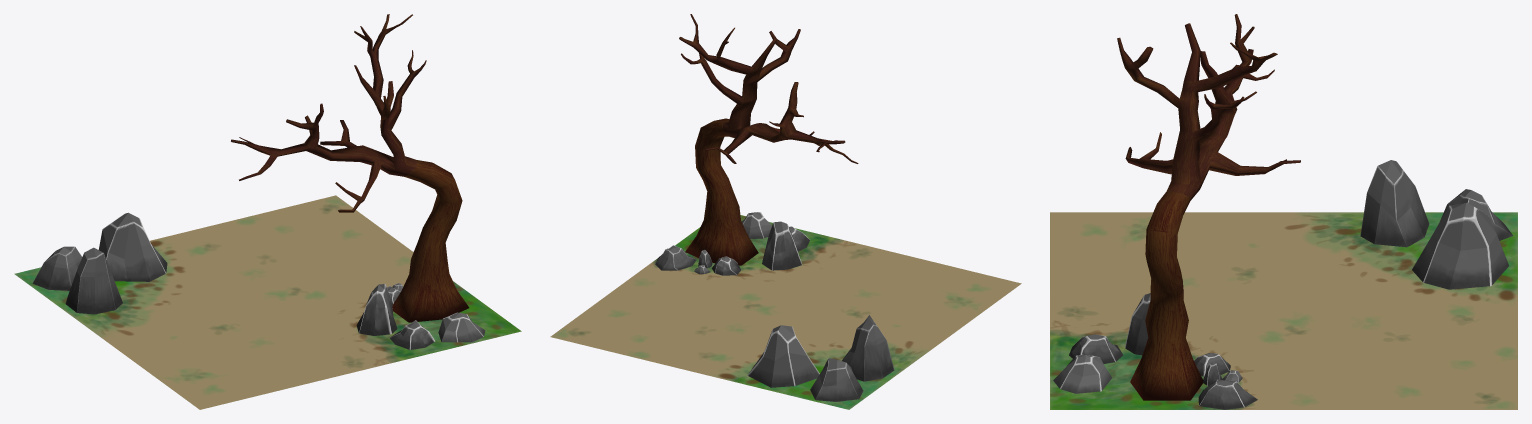
Rendered from level 1.fbx.
The picture shows the model from 3 angles, left to right: view 1: azimuth 30°, elevation 25°; view 2: azimuth 150°, elevation 25°; view 3: azimuth 270°, elevation 25°; orthographic projection. The views are drawn at different scales.
Visible parts, largest first — view 1: floor, tree, tree.001, rock.004, rock.003, rock.005, rock.006, rock.002, rock; view 2: floor, tree.001, tree, rock.004, rock.003, rock.005, rock.006, rock.001, rock.002, rock.009; view 3: floor, tree.001, tree, rock.004, rock.003, rock.002, rock.001, rock, rock.006, rock.005, rock.009.
Boxes of the visible parts, <box> form: floor: <box>14,195,521,409</box>; tree: <box>392,160,469,322</box>; tree.001: <box>231,14,426,212</box>; rock.004: <box>98,212,167,281</box>; rock.003: <box>65,247,122,314</box>; rock.005: <box>32,246,82,290</box>; rock.006: <box>356,284,397,335</box>; rock.002: <box>438,312,485,342</box>; rock: <box>389,320,435,349</box>; floor: <box>550,215,1021,409</box>; tree.001: <box>679,14,858,163</box>; tree: <box>685,118,758,265</box>; rock.004: <box>747,325,819,387</box>; rock.003: <box>842,315,894,381</box>; rock.005: <box>810,358,863,401</box>; rock.006: <box>762,221,802,270</box>; rock.001: <box>655,245,696,270</box>; rock.002: <box>741,212,771,238</box>; rock.009: <box>712,256,740,275</box>; floor: <box>1050,212,1517,409</box>; tree.001: <box>1117,14,1300,200</box>; tree: <box>1130,191,1203,400</box>; rock.004: <box>1412,203,1508,289</box>; rock.003: <box>1360,160,1429,247</box>; rock.002: <box>1053,354,1111,393</box>; rock.001: <box>1198,379,1257,409</box>; rock: <box>1069,334,1123,363</box>; rock.006: <box>1125,293,1150,355</box>; rock.005: <box>1440,189,1512,240</box>; rock.009: <box>1194,353,1230,376</box>.
Bounding box in the file's own units: 227 × 184 × 227.
Materials: 8 (8 with a texture image).
